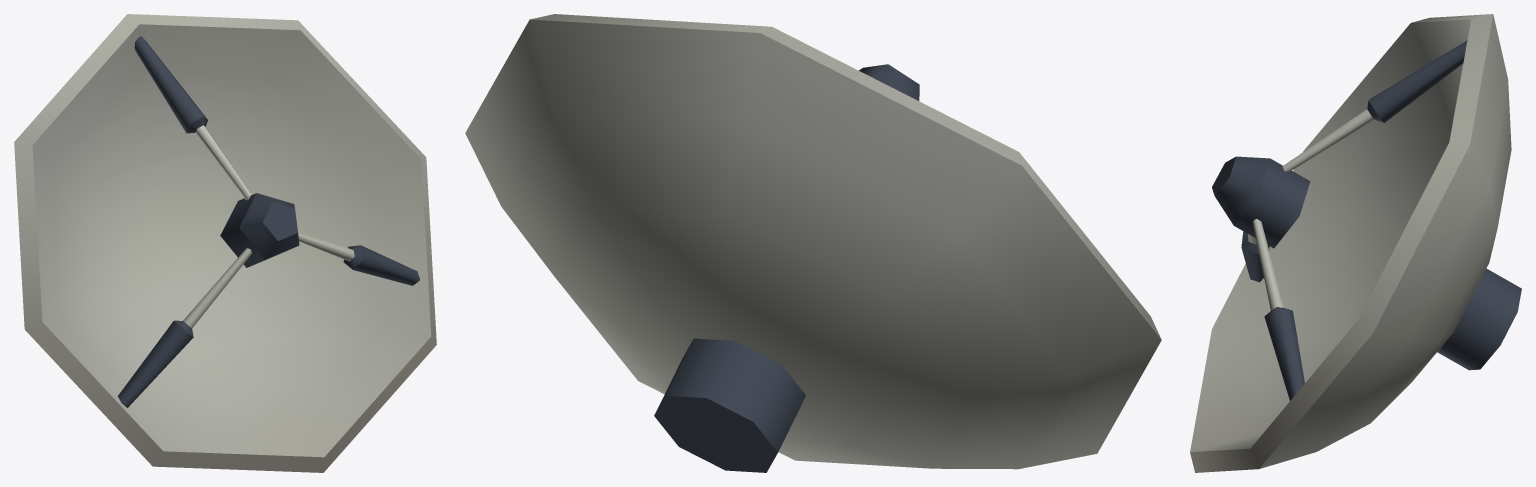
Rendered from Antene_2_F_1.fbx.
3 renders of one model, left to right at view 1: azimuth 30°, elevation 25°; view 2: azimuth 150°, elevation 25°; view 3: azimuth 270°, elevation 25°, orthographic. The views are drawn at different scales.
Visible parts, largest first — view 1: Antene_2_F_1; view 2: Antene_2_F_1; view 3: Antene_2_F_1.
Boxes of the visible parts, <box> form: Antene_2_F_1: <box>14,14,436,472</box>; Antene_2_F_1: <box>465,14,1161,472</box>; Antene_2_F_1: <box>1190,14,1521,472</box>.
Size of the model in its own units: 142 by 120 by 84.78.
